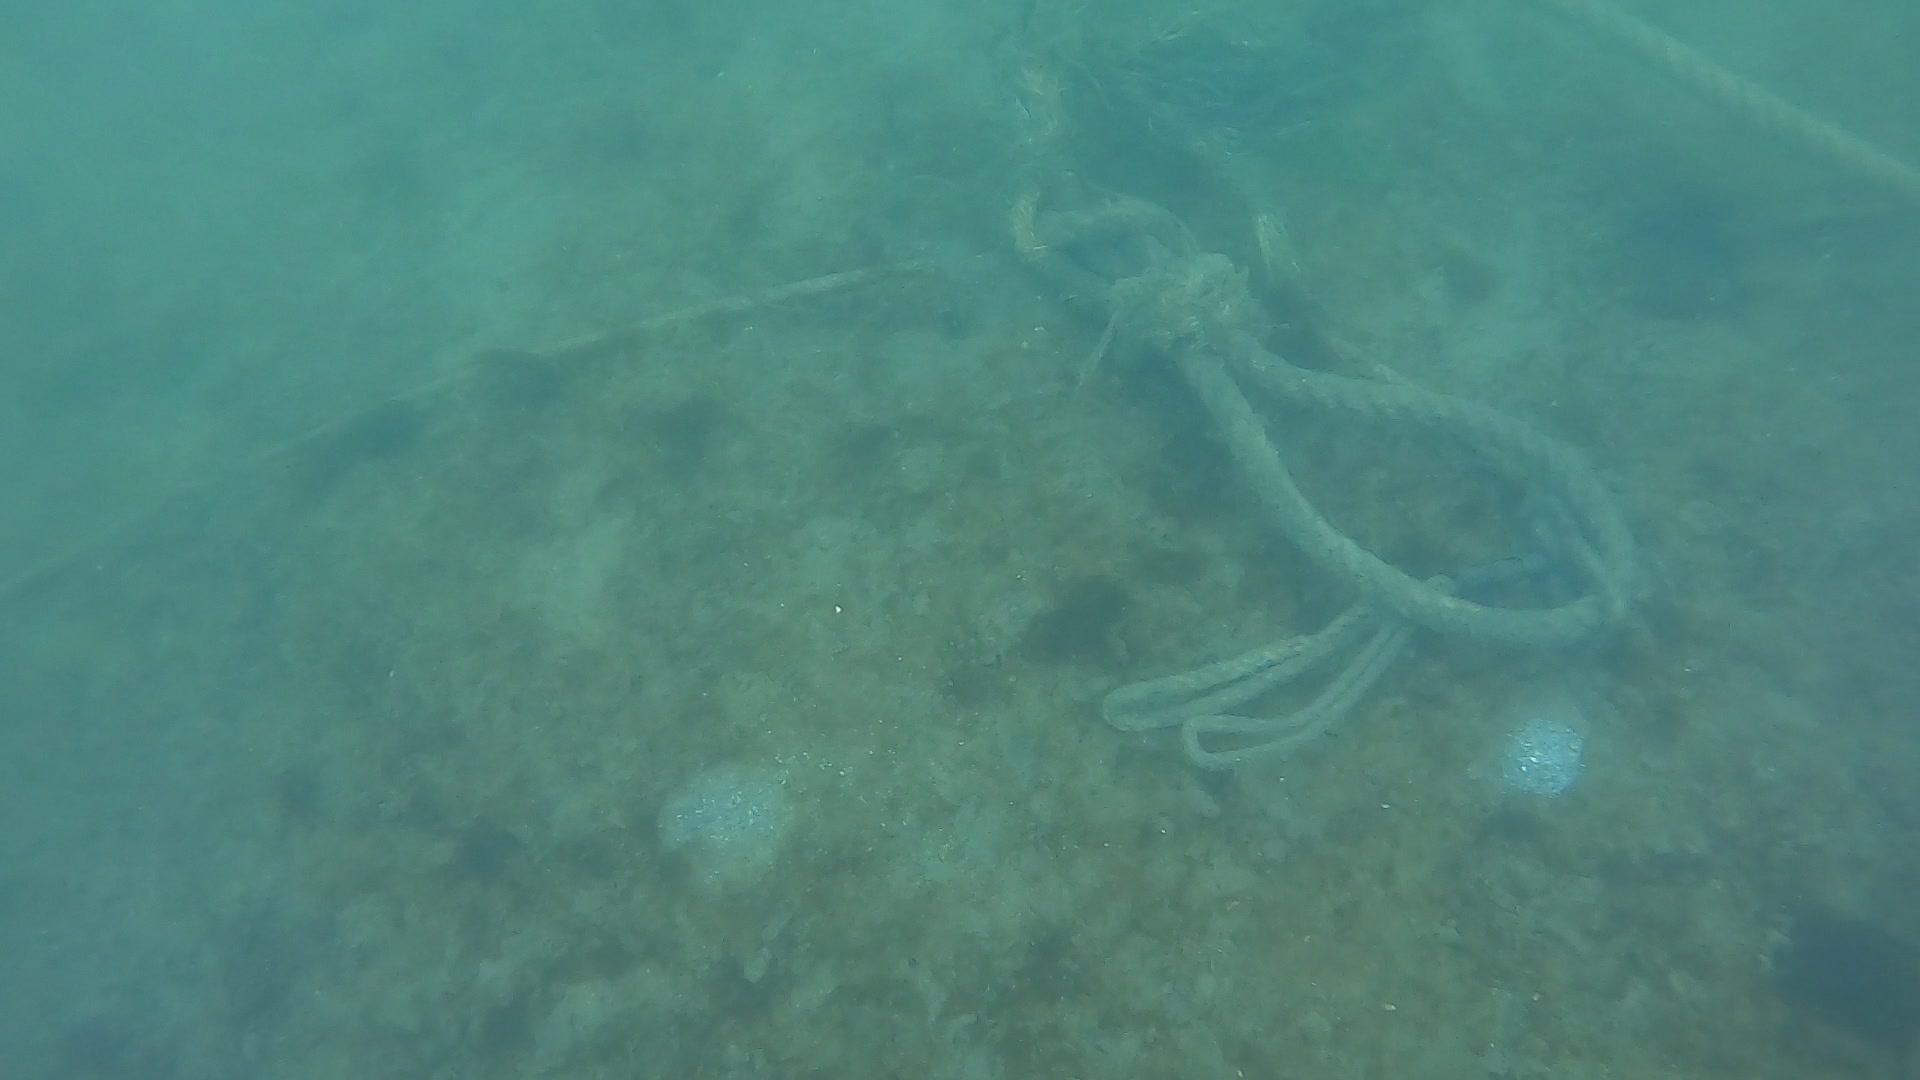bundle of ropes: (988, 0, 1920, 773)
